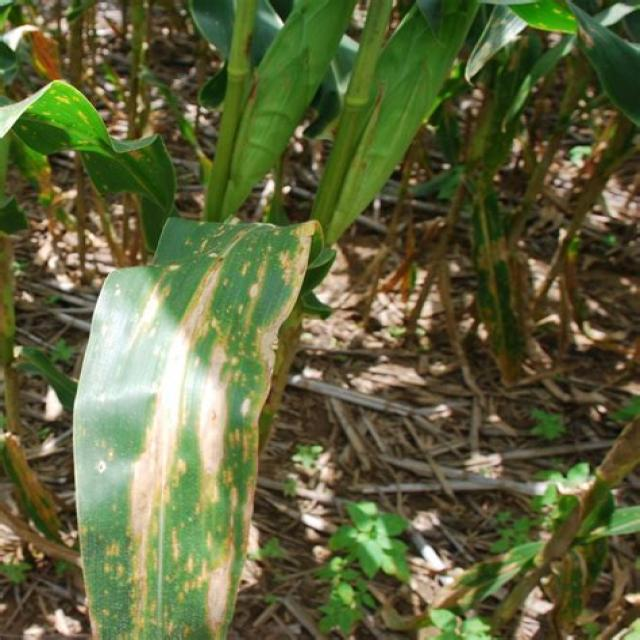blight: (104, 398, 222, 640), (184, 232, 280, 332)
